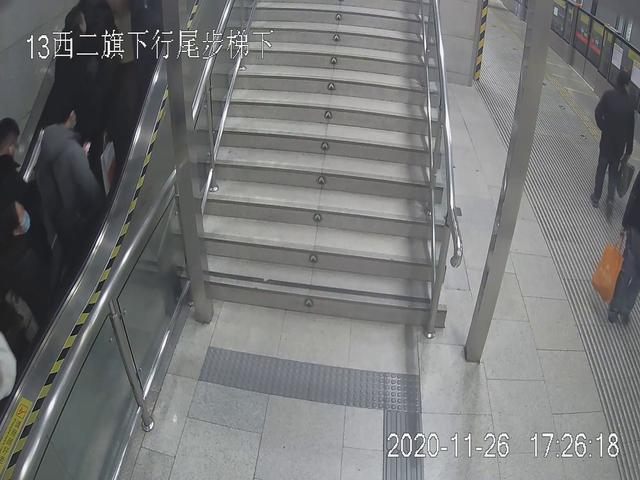person: (31, 98, 104, 272), (587, 60, 640, 213)
